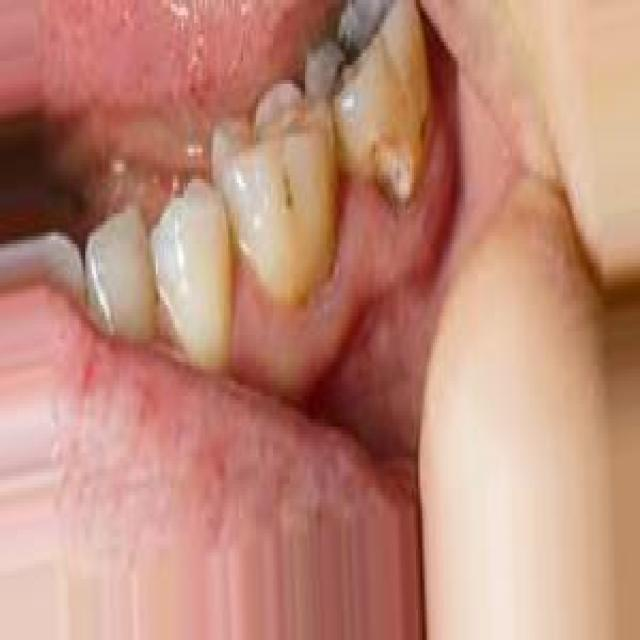caries: (308, 0, 391, 109), (356, 112, 426, 231)
